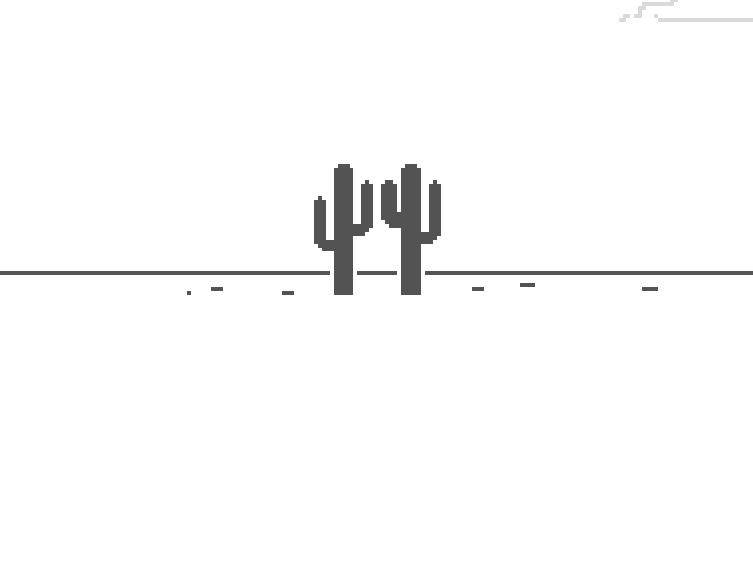dead-t-rex: (309, 158, 446, 299)
